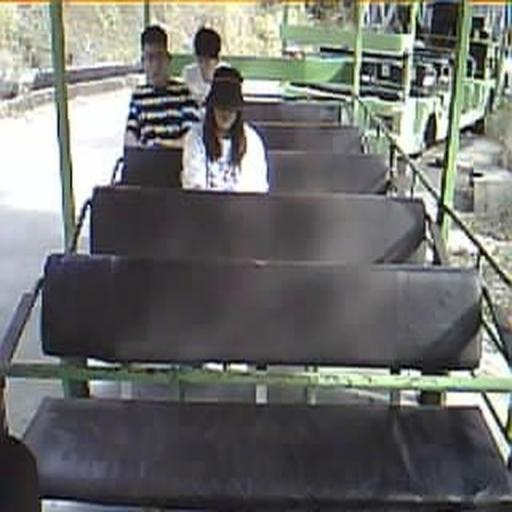persona: (122, 24, 206, 171), (180, 75, 270, 194), (181, 26, 243, 102)
